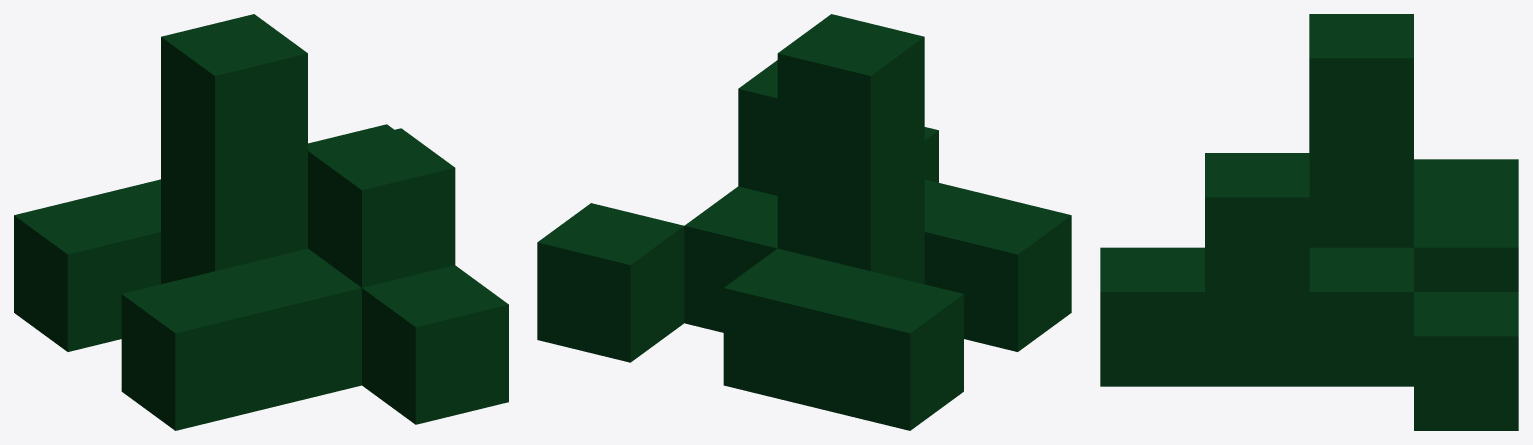
Rendered from GrassPiece10.fbx.
The picture shows the model from 3 angles, left to right: view 1: azimuth 30°, elevation 25°; view 2: azimuth 150°, elevation 25°; view 3: azimuth 270°, elevation 25°; orthographic projection. The views are drawn at different scales.
Visible parts, largest first — view 1: Matrix_Piece0_0_1_Piece1_0_0; view 2: Matrix_Piece0_0_1_Piece1_0_0; view 3: Matrix_Piece0_0_1_Piece1_0_0.
Part boxes in pixels (bbox=[...]): Matrix_Piece0_0_1_Piece1_0_0: bbox=[14, 14, 508, 430]; Matrix_Piece0_0_1_Piece1_0_0: bbox=[537, 14, 1071, 430]; Matrix_Piece0_0_1_Piece1_0_0: bbox=[1100, 14, 1518, 430].
Size of the model in its own units: 4 by 3 by 4.
1 material, 1 textured.
